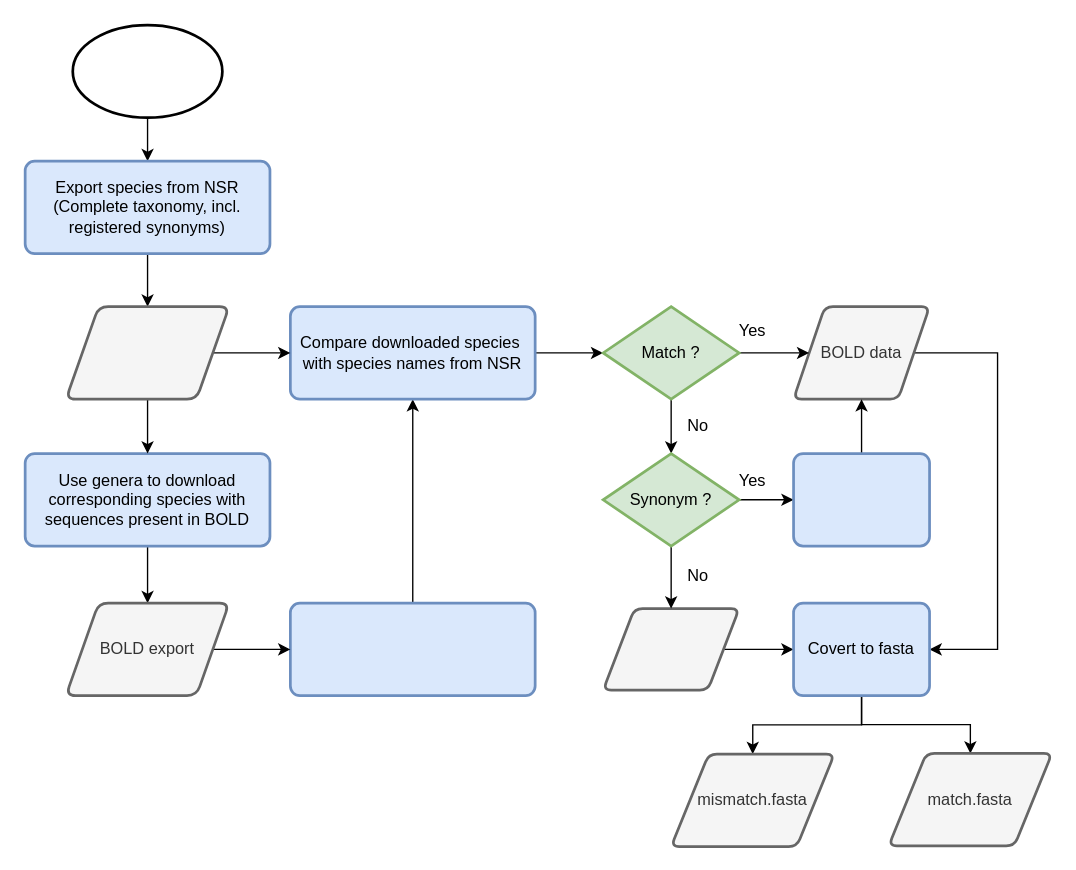
Some shapes in this 1076 by 870 pixel diagram are drawn without their labels. The centre of each missing label's shape, as x and y in pixels:
Adapt accepted name: [861,499]
Filter on Dutch records and remove subgenera (names between (), sp., etc.): [412,648]
Missmatches: [670,649]
NSR export: [147,352]
Start: [147,70]
